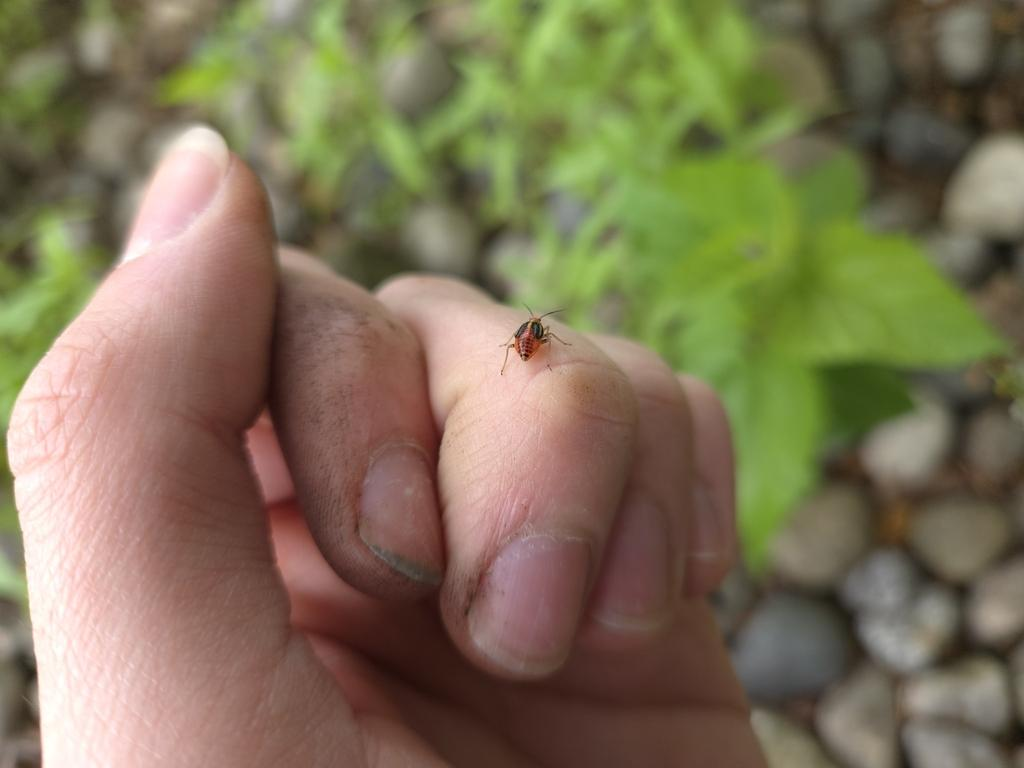plant_bugs: (482, 284, 586, 394)
